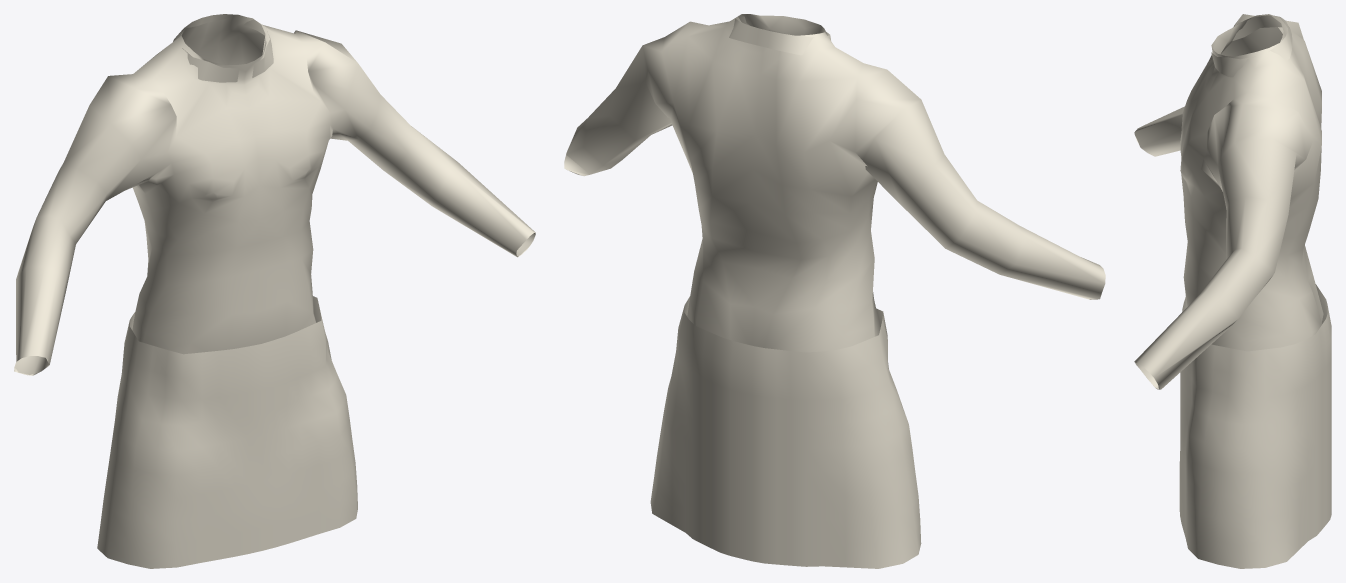
File: kurta_vest.glb
The picture shows the model from 3 angles, left to right: view 1: azimuth 30°, elevation 25°; view 2: azimuth 150°, elevation 25°; view 3: azimuth 270°, elevation 25°; orthographic projection. The views are drawn at different scales.
Visible parts, largest first — view 1: kurta_vest; view 2: kurta_vest; view 3: kurta_vest.
Part boxes in pixels (x1,y1,x2,y2): kurta_vest: (14,14,535,568); kurta_vest: (564,14,1105,568); kurta_vest: (1134,14,1331,568).
Bounding box in the file's own units: 1.07 × 0.9696 × 0.3602.
